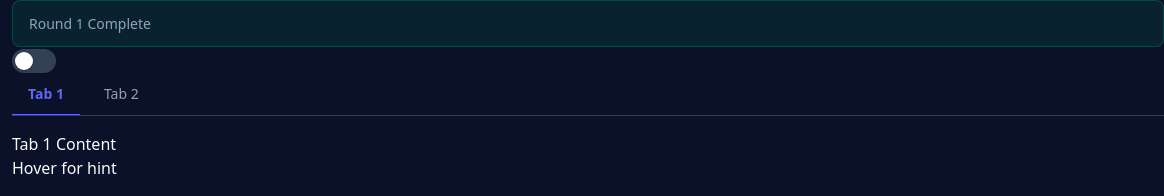
UI SDK Integration in Web App › renders and interacts with new UI primitives (Alert, Switch, Tabs, Tooltip)
expect the text "Round 1 Complete" is shown: met, box [29, 14, 151, 33]
Click the switch named "Audio switch" at (34, 61), box [12, 49, 56, 73]
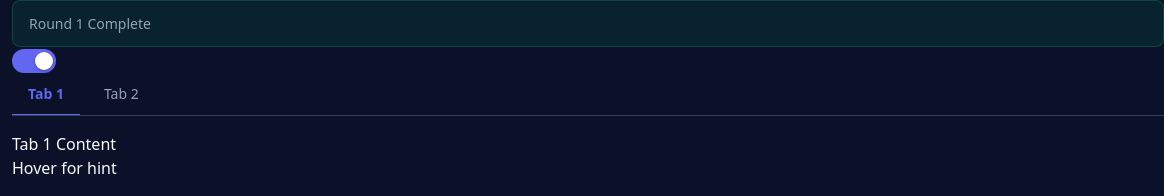
Click the tab "Tab 2" at (121, 94), box [88, 73, 155, 116]
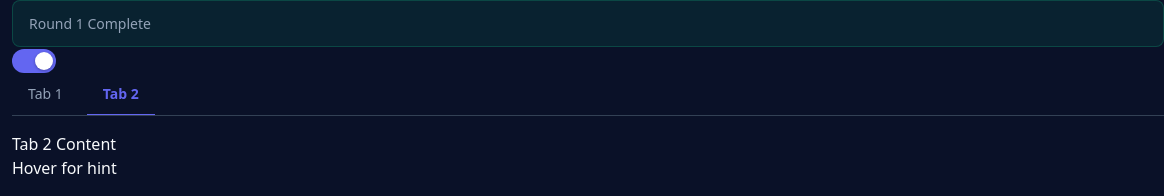
expect the text "Tab 2 Content" is shown: met, box [12, 133, 116, 155]
Hover over the button "Hover for hint" at (64, 168), box [12, 156, 117, 180]
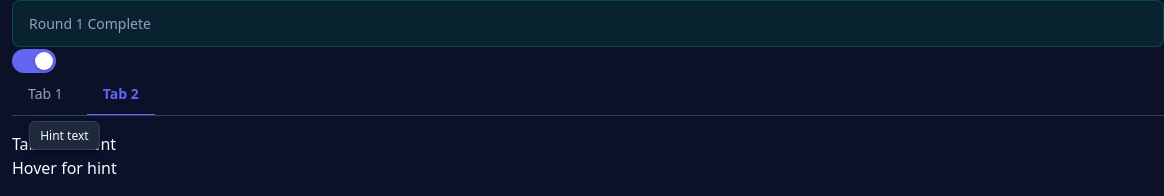
expect the tooltip reads "Hint text": met, box [40, 127, 89, 144]
